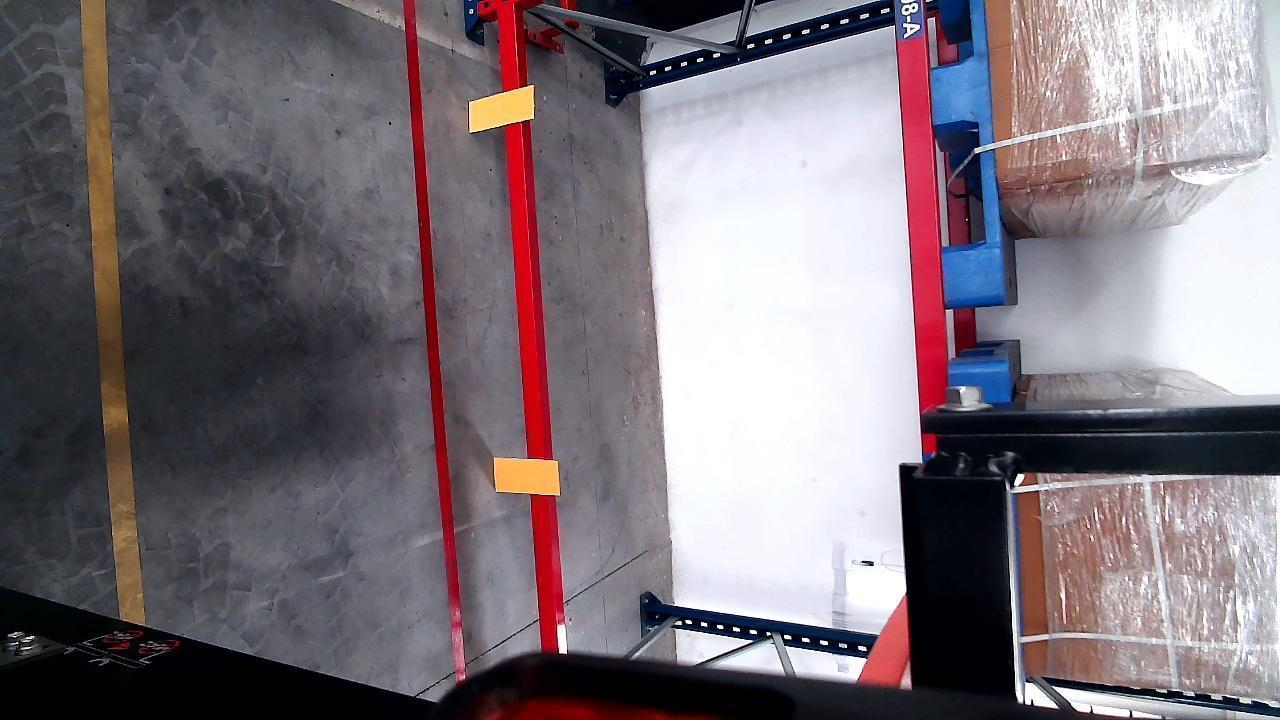yellow_line: (77, 0, 148, 630)
